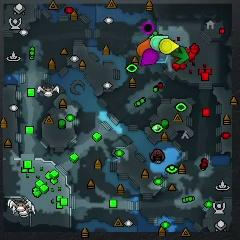p2: (150, 35, 169, 48)
p3: (140, 49, 157, 66)
p3Clone: (142, 21, 155, 33)
p4: (160, 39, 179, 52)
p5: (138, 39, 151, 54)
x4: (170, 48, 189, 63)
